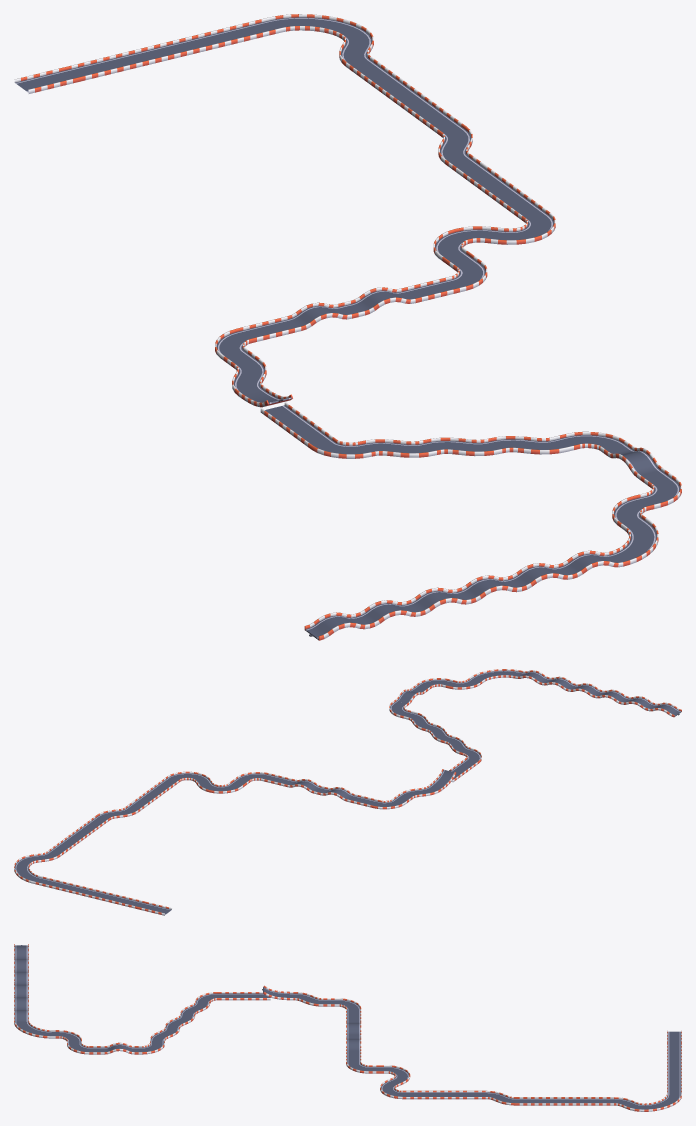
The model's file is Trackold.gltf.
The picture shows the model from 3 angles, top to bottom: view 1: azimuth 30°, elevation 25°; view 2: azimuth 150°, elevation 25°; view 3: azimuth 270°, elevation 25°; orthographic projection. The views are drawn at different scales.
Parts seen in each view (by area): view 1: track-road-wide-corner-large2, track-road-wide-corner-large22, track-road-wide-curve25, track-road-wide-curve27, track-road-wide-curve23, track-road-wide-curve26, track-road-wide-straight-bump-up29, track-road-wide-straight-bump-up27, track-road-wide-straight-bump-up24, track-road-wide-straight-bump-up22, track-road-wide-straight-bump-up26, track-road-wide-straight-bump-up28 (+5 smaller); view 2: track-road-wide-corner-large22; view 3: track-road-wide-corner-large2, track-road-wide-corner-large22, track-road-wide-curve2, track-road-wide-curve22, track-road-wide-curve24, track-road-wide-straight-hill-beginning2, track-road-wide-curve25, track-road-wide-straight-bump-up23, track-road-wide-curve26.
Boxes of the visible parts, box(x1,y1,x2,y2) form: track-road-wide-corner-large2: box(267, 14, 366, 38); track-road-wide-corner-large22: box(609, 520, 658, 566); track-road-wide-curve25: box(357, 439, 436, 457); track-road-wide-curve27: box(488, 436, 567, 454); track-road-wide-curve23: box(455, 226, 534, 244); track-road-wide-curve26: box(423, 437, 502, 456); track-road-wide-straight-bump-up29: box(304, 612, 369, 640); track-road-wide-straight-bump-up27: box(406, 587, 471, 615); track-road-wide-straight-bump-up24: box(558, 550, 623, 578); track-road-wide-straight-bump-up22: box(287, 302, 351, 330); track-road-wide-straight-bump-up26: box(457, 575, 521, 603); track-road-wide-straight-bump-up28: box(355, 600, 420, 628); track-road-wide-corner-large22: box(471, 669, 522, 681); track-road-wide-corner-large2: box(644, 1094, 681, 1111); track-road-wide-corner-large22: box(14, 1020, 51, 1038); track-road-wide-curve2: box(614, 1097, 644, 1111); track-road-wide-curve22: box(485, 1090, 515, 1105); track-road-wide-curve24: box(293, 992, 323, 1006); track-road-wide-straight-hill-beginning2: box(262, 985, 293, 1000); track-road-wide-curve25: box(180, 1001, 210, 1015); track-road-wide-straight-bump-up23: box(104, 1042, 134, 1054); track-road-wide-curve26: box(165, 1014, 194, 1028).
Size of what is drawn, in the model's own units: 157 by 3.64 by 266.
Materials: 6 (6 with a texture image).
